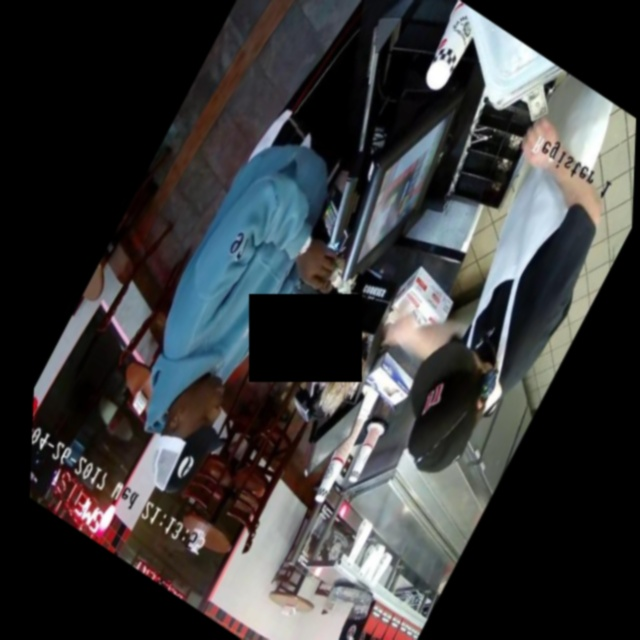gun: (270, 239, 361, 294)
